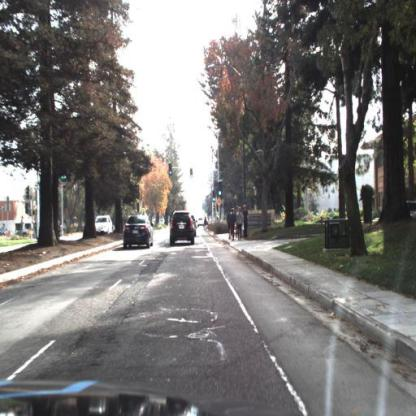car: (123, 215, 154, 250), (170, 211, 194, 247), (93, 213, 115, 238), (95, 213, 113, 236)
pedestrian: (242, 204, 250, 240), (236, 207, 243, 243), (239, 207, 244, 243), (231, 207, 236, 242), (227, 208, 232, 239), (232, 207, 236, 245), (227, 207, 231, 243), (246, 205, 250, 239)
trafficLight: (212, 189, 217, 206)
trafficLight-Green: (212, 191, 217, 203), (219, 183, 223, 197), (169, 164, 173, 177), (191, 169, 195, 180), (190, 169, 194, 179)
